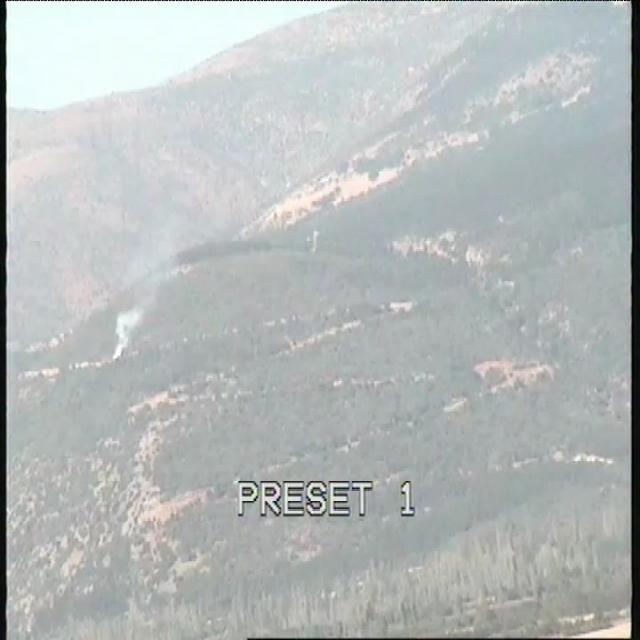smoke: (107, 290, 155, 370)
